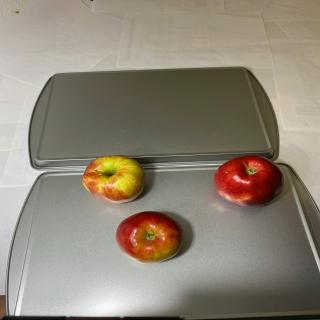Apple: (214, 155, 285, 207), (115, 211, 183, 264), (82, 154, 145, 203)
